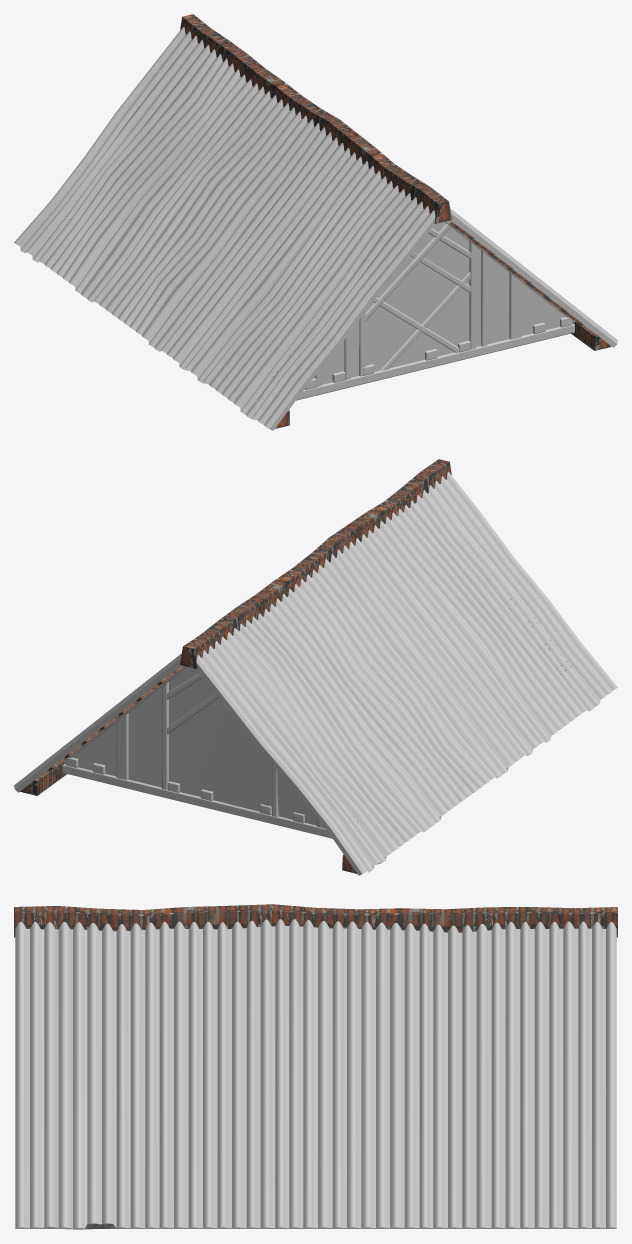
Rendered from SM_HouseRoof03.FBX.
3 views of the same model, one above another, from view 1: azimuth 30°, elevation 25°; view 2: azimuth 150°, elevation 25°; view 3: azimuth 270°, elevation 25° (orthographic). The views are drawn at different scales.
Parts seen in each view (by area): view 1: SM_HouseRoof03; view 2: SM_HouseRoof03; view 3: SM_HouseRoof03.
Boxes of the visible parts, x1=… form: SM_HouseRoof03: x1=14, y1=14, x2=617, y2=430; SM_HouseRoof03: x1=14, y1=459, x2=617, y2=875; SM_HouseRoof03: x1=14, y1=904, x2=617, y2=1229.
Size of the model in its own units: 625 by 783 by 320.
